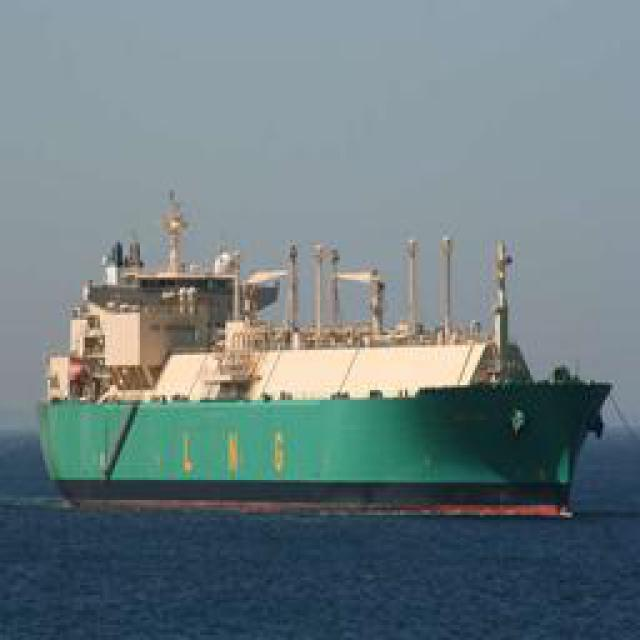Ship: (39, 201, 609, 496)
